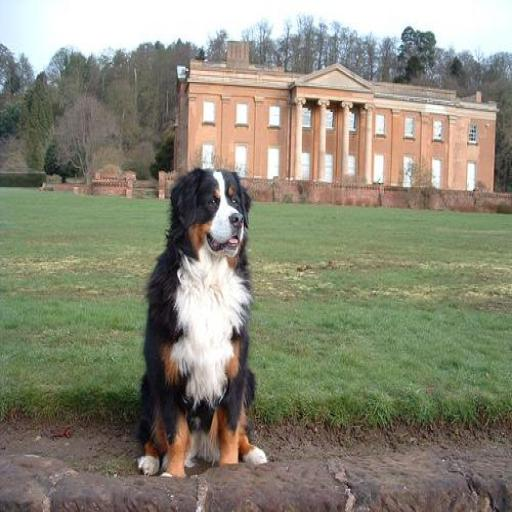dog_face: (173, 166, 251, 263)
